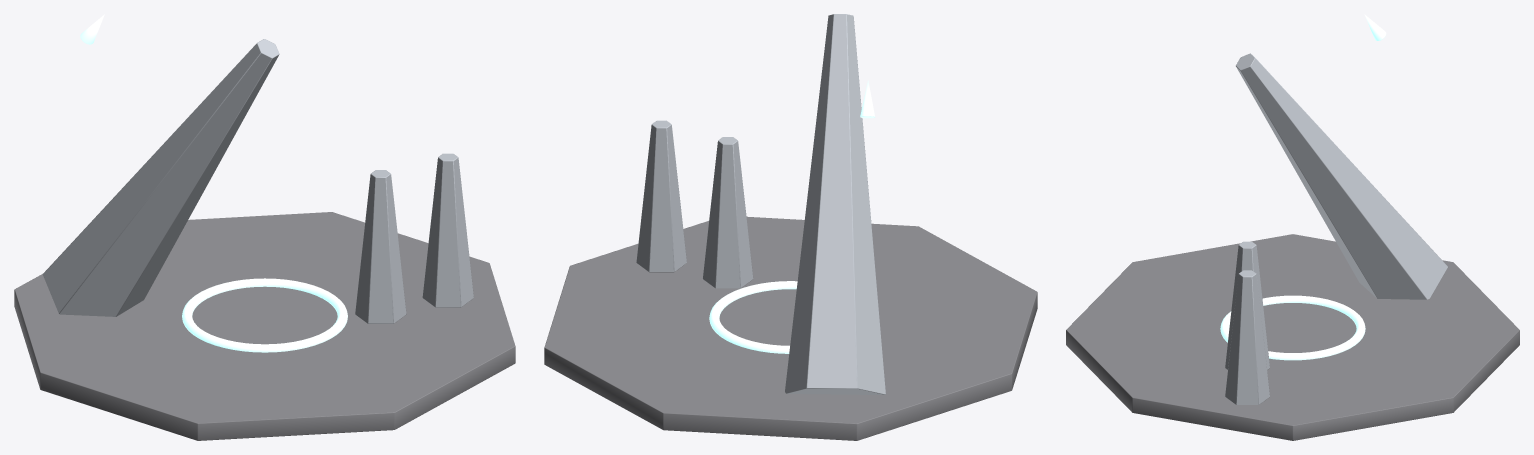
The model's file is SM_POI_RemnantSite.fbx.
3 views of the same model, side by side, from view 1: azimuth 30°, elevation 25°; view 2: azimuth 150°, elevation 25°; view 3: azimuth 270°, elevation 25° (orthographic). The views are drawn at different scales.
Visible parts, largest first — view 1: SM_POI_RemnantSite; view 2: SM_POI_RemnantSite; view 3: SM_POI_RemnantSite.
Part boxes in pixels (x1,y1,x2,y2): SM_POI_RemnantSite: [14, 14, 515, 440]; SM_POI_RemnantSite: [544, 14, 1037, 440]; SM_POI_RemnantSite: [1066, 14, 1519, 440].
Size of what is drawn, in the model's own units: 4 by 2.78 by 4.
